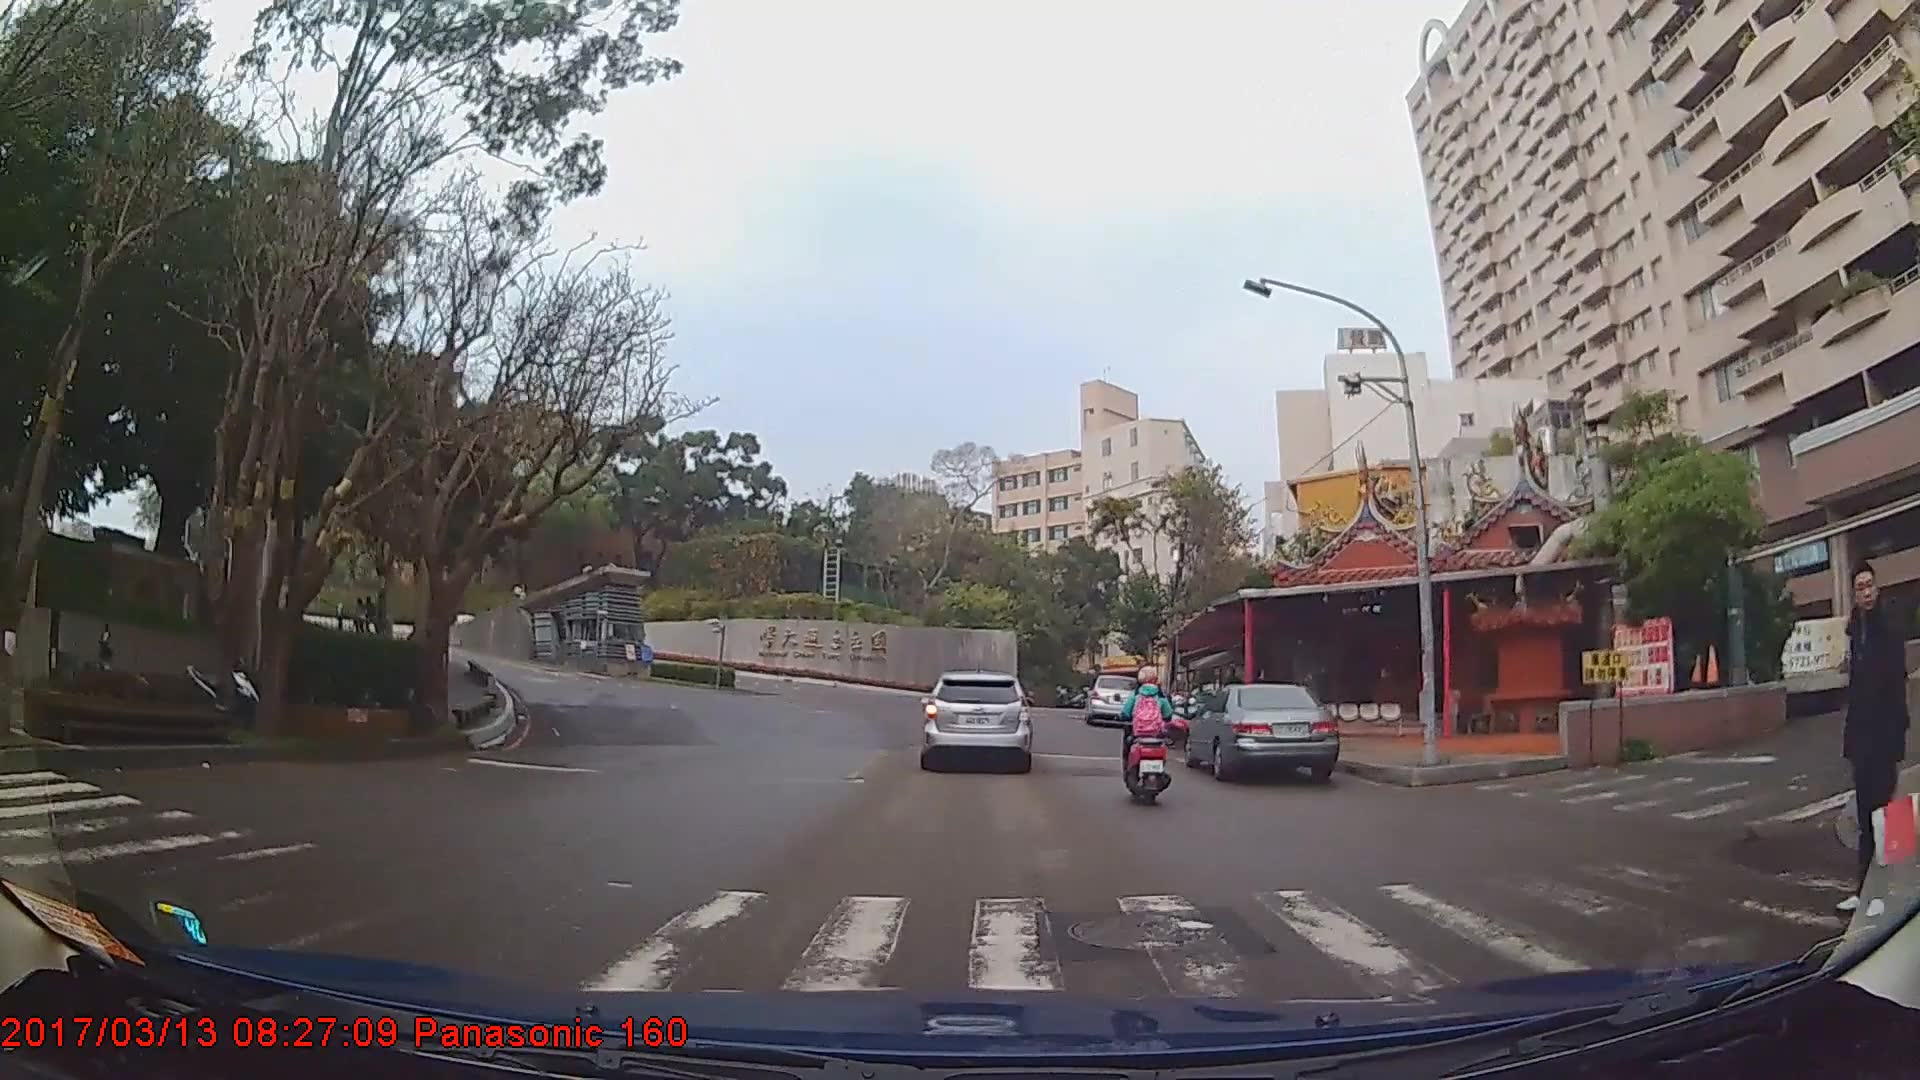pedestrian: (1833, 559, 1920, 921)
rider: (1119, 663, 1181, 813)
vehicle: (1181, 683, 1338, 783), (920, 670, 1031, 773), (1084, 673, 1137, 724)
